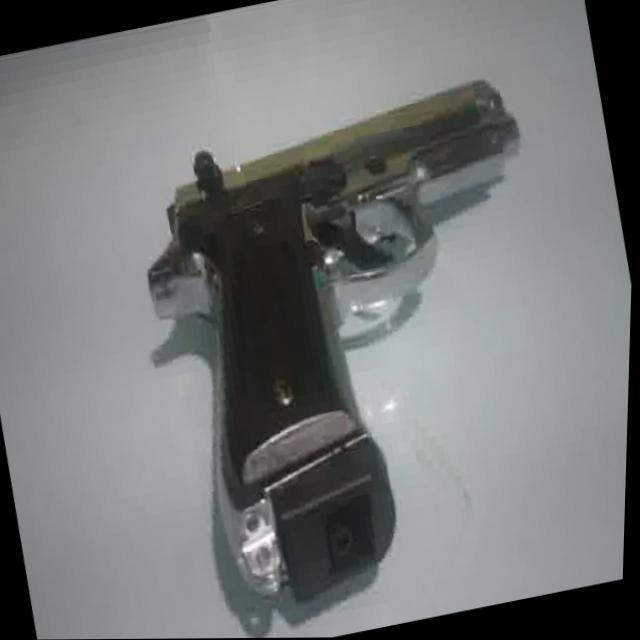weapon: (109, 71, 600, 616)
